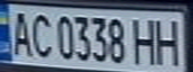0: (51, 11, 75, 61)
3: (69, 12, 93, 62), (87, 14, 109, 63)
8: (106, 15, 130, 64)
A: (6, 8, 36, 57)
C: (27, 10, 54, 60)
H: (127, 15, 163, 66), (151, 15, 187, 66)
